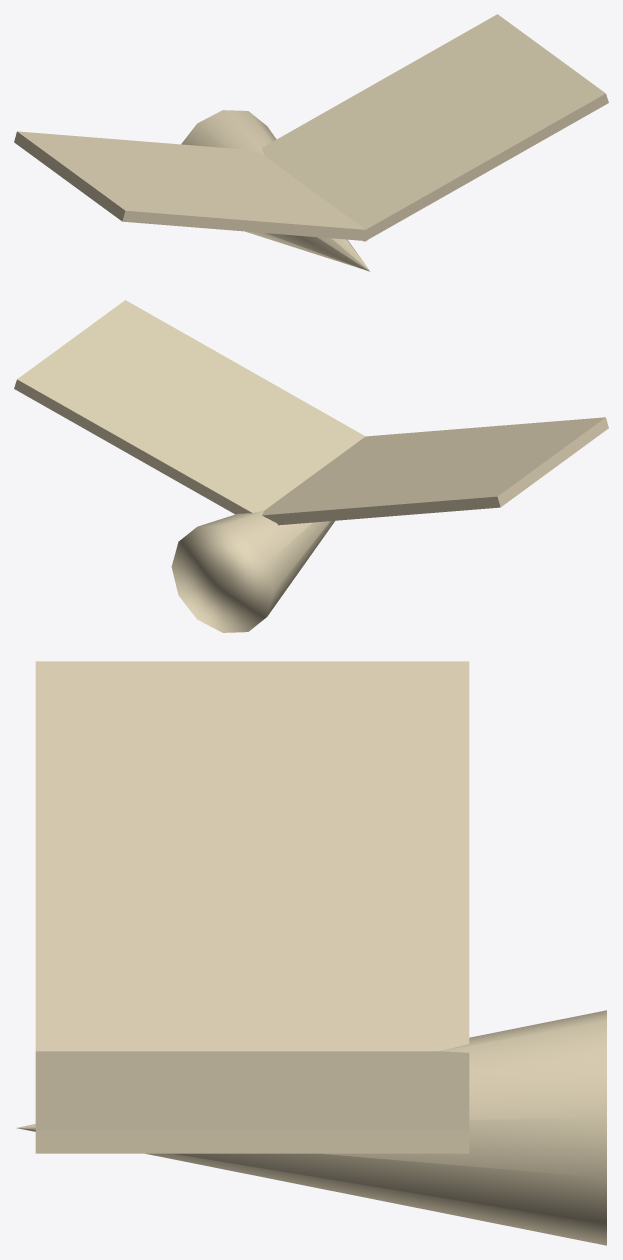
The model's file is paper_bird.glb.
3 views of the same model, one above another, from view 1: azimuth 30°, elevation 25°; view 2: azimuth 150°, elevation 25°; view 3: azimuth 270°, elevation 25° (orthographic). The views are drawn at different scales.
Visible parts, largest first — view 1: folded_wing (×2), body; view 2: folded_wing (×2), body; view 3: folded_wing (×2), body.
Part boxes in pixels (x1,y1,x2,y2): folded_wing (×2): (14, 14, 608, 241); body: (181, 110, 369, 271); folded_wing (×2): (14, 300, 608, 525); body: (171, 510, 334, 632); folded_wing (×2): (35, 661, 469, 1153); body: (17, 1010, 606, 1245).
Size of the model in its own units: 0.5701 by 0.1901 by 0.3.
